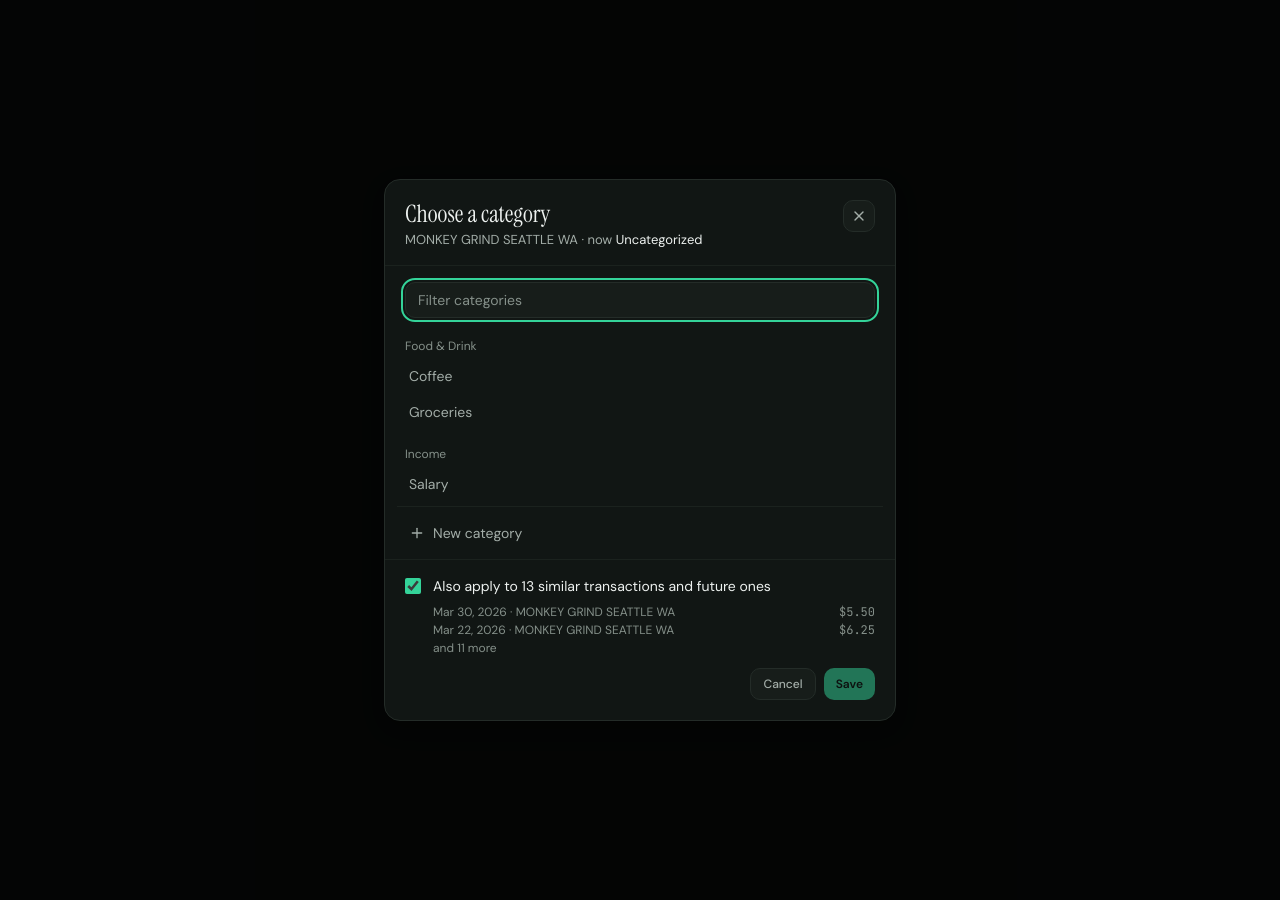
Test: CategoryPicker › filters the options
Expected: the radio button labelled "Coffee" is shown, left=397, top=358, right=883, bottom=394
Type "sal" into the search field labelled "Filter categories".
click(640, 300); type("sal")  # box left=405, top=282, right=875, bottom=318
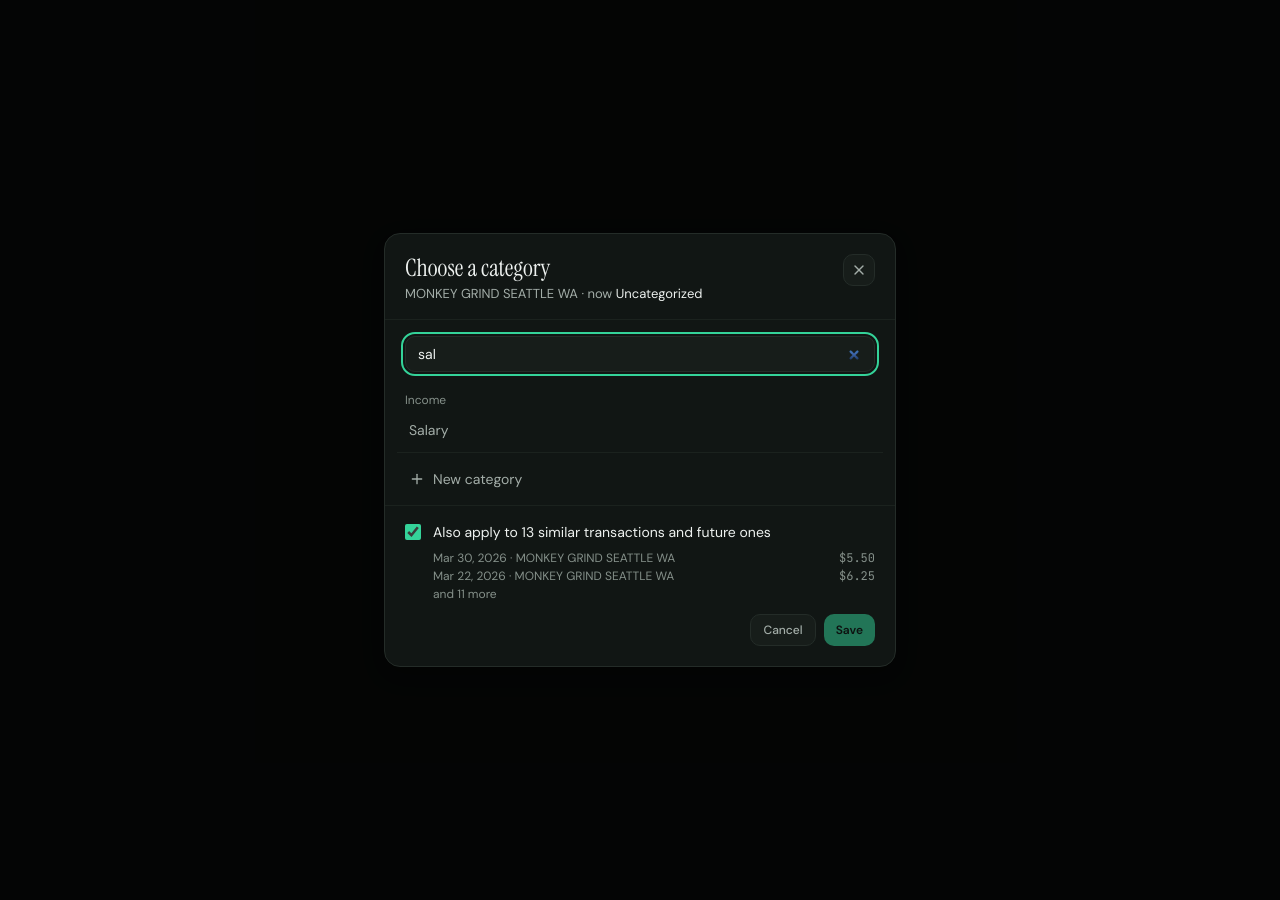
Expected: the radio button labelled "Salary" is shown, left=397, top=412, right=883, bottom=448
Now the radio button labelled "Coffee" is gone
